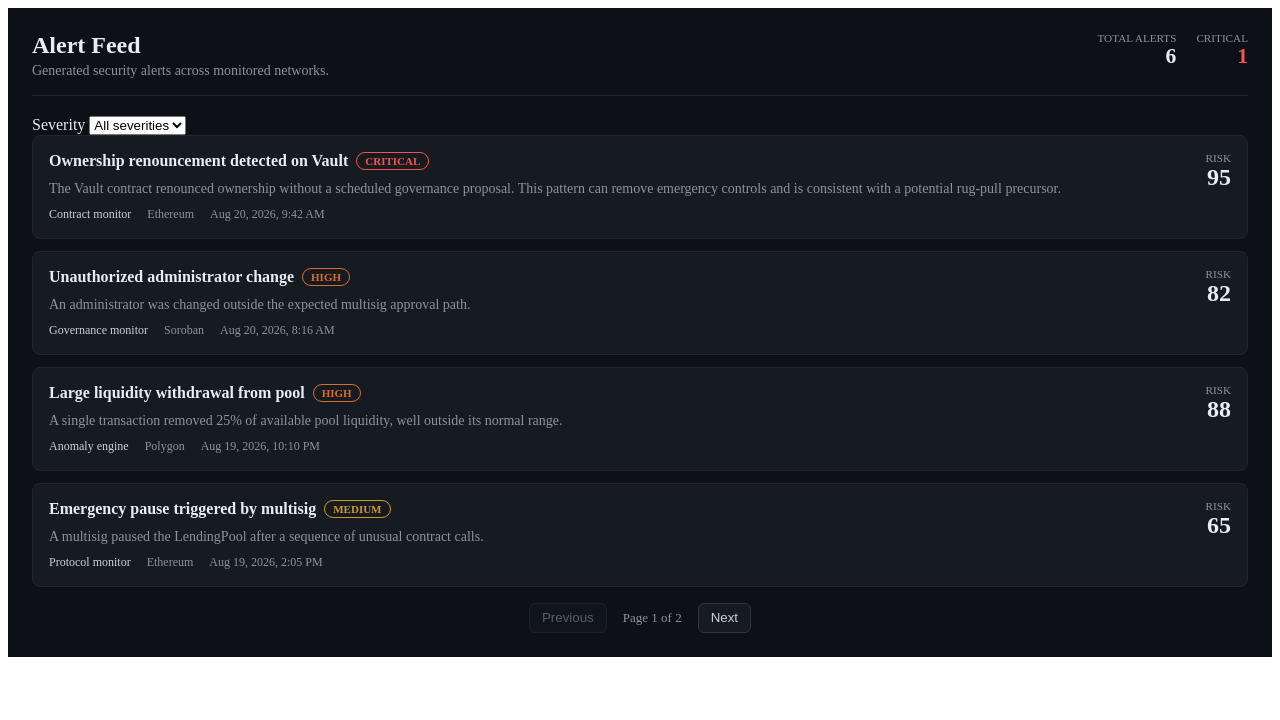
Test: AlertFeed › paginates through the alert listing
This screenshot has width=1280, height=720.
Click the button "Next" at (724, 618), box [698,603,751,633]
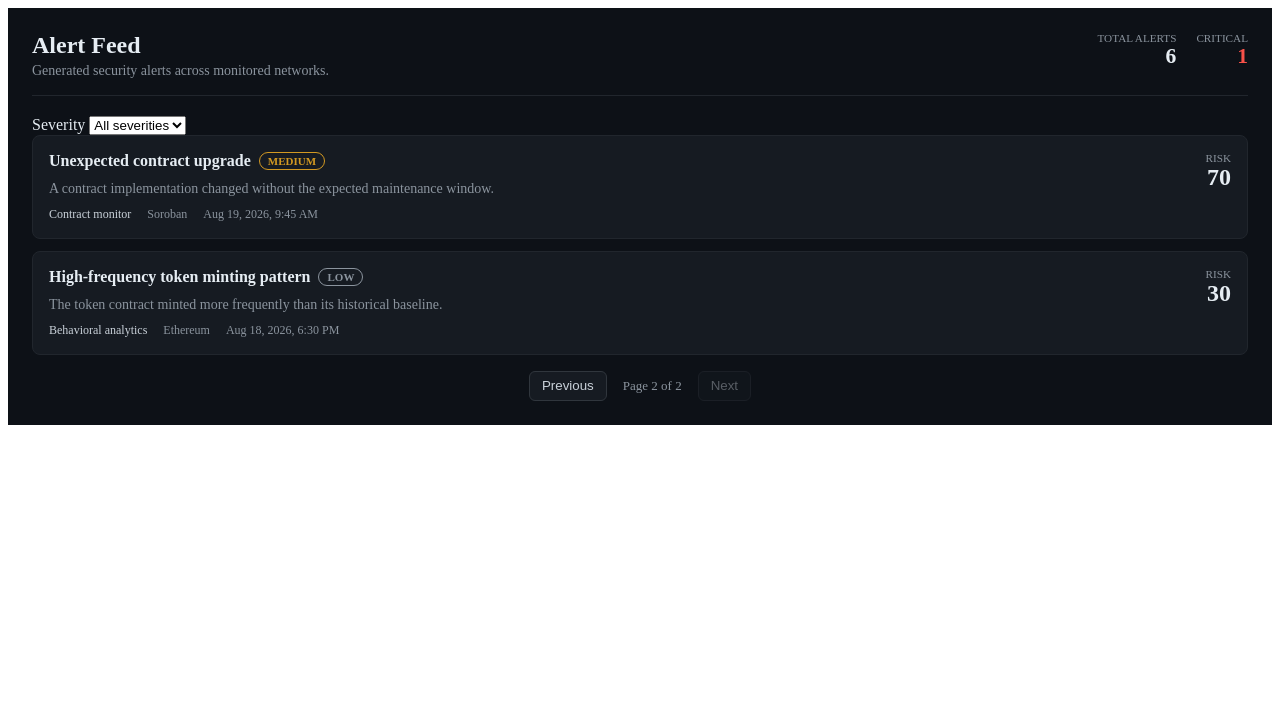
Expected: the text "Page 2 of 2" is shown, [623,378,682,394]
Expected: the link "Unexpected contract upgrade" is shown, [49,152,251,169]
Expected: the button "Next" is disabled, [698,371,751,401]
